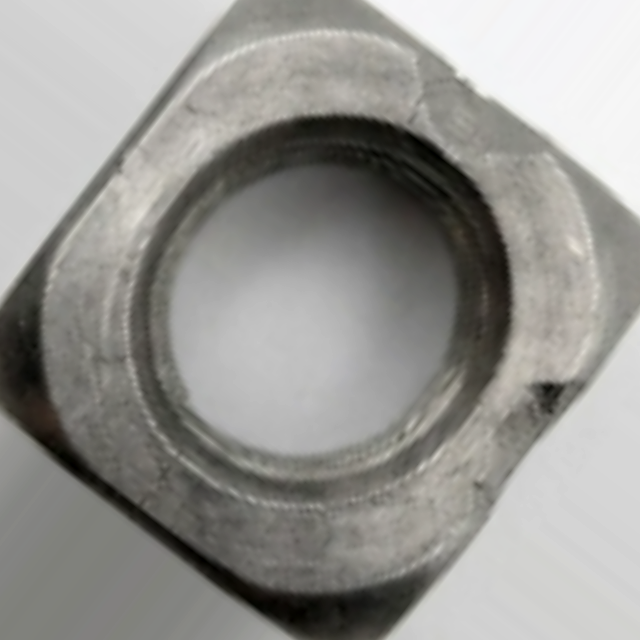defect: (457, 367, 599, 532), (407, 45, 555, 152)
